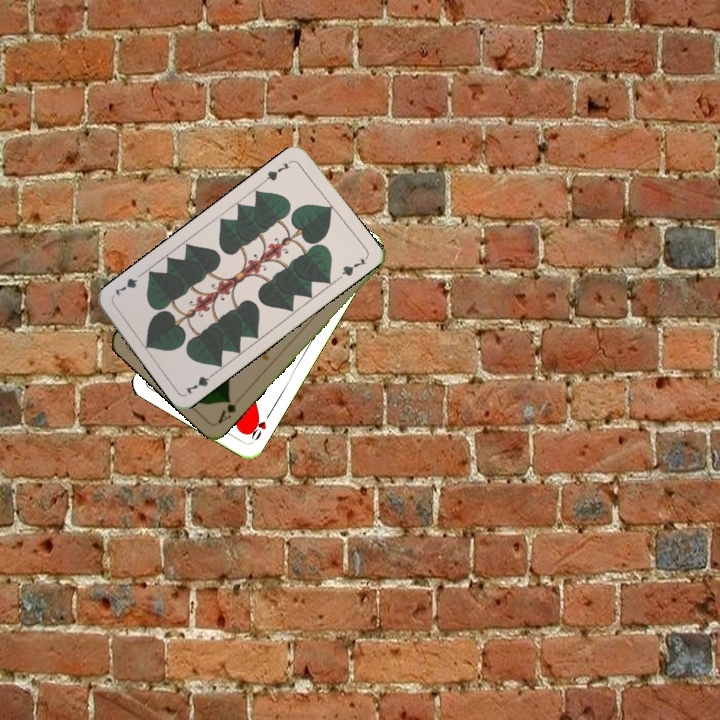G7: (181, 368, 219, 397), (259, 156, 295, 185)
GA: (214, 392, 244, 426)
HO: (244, 408, 274, 445)
